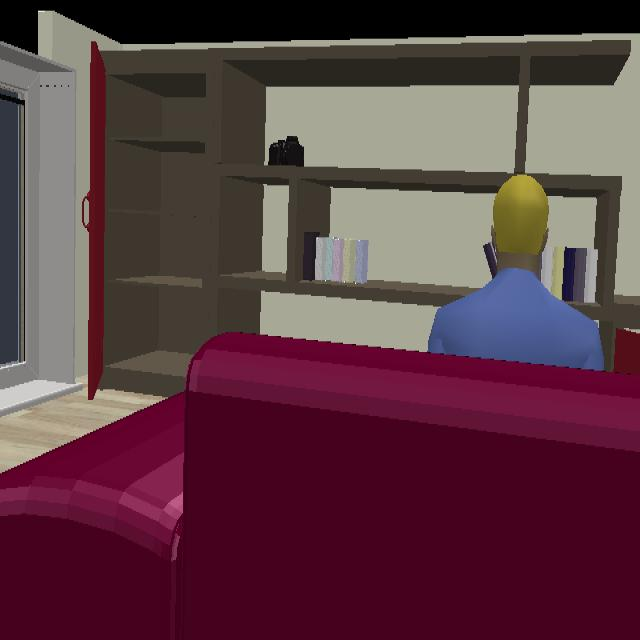book: (302, 232, 369, 283), (540, 247, 597, 301)
bookshelf: (86, 40, 633, 399)
person: (428, 176, 610, 372)
sofa: (0, 328, 640, 640)
